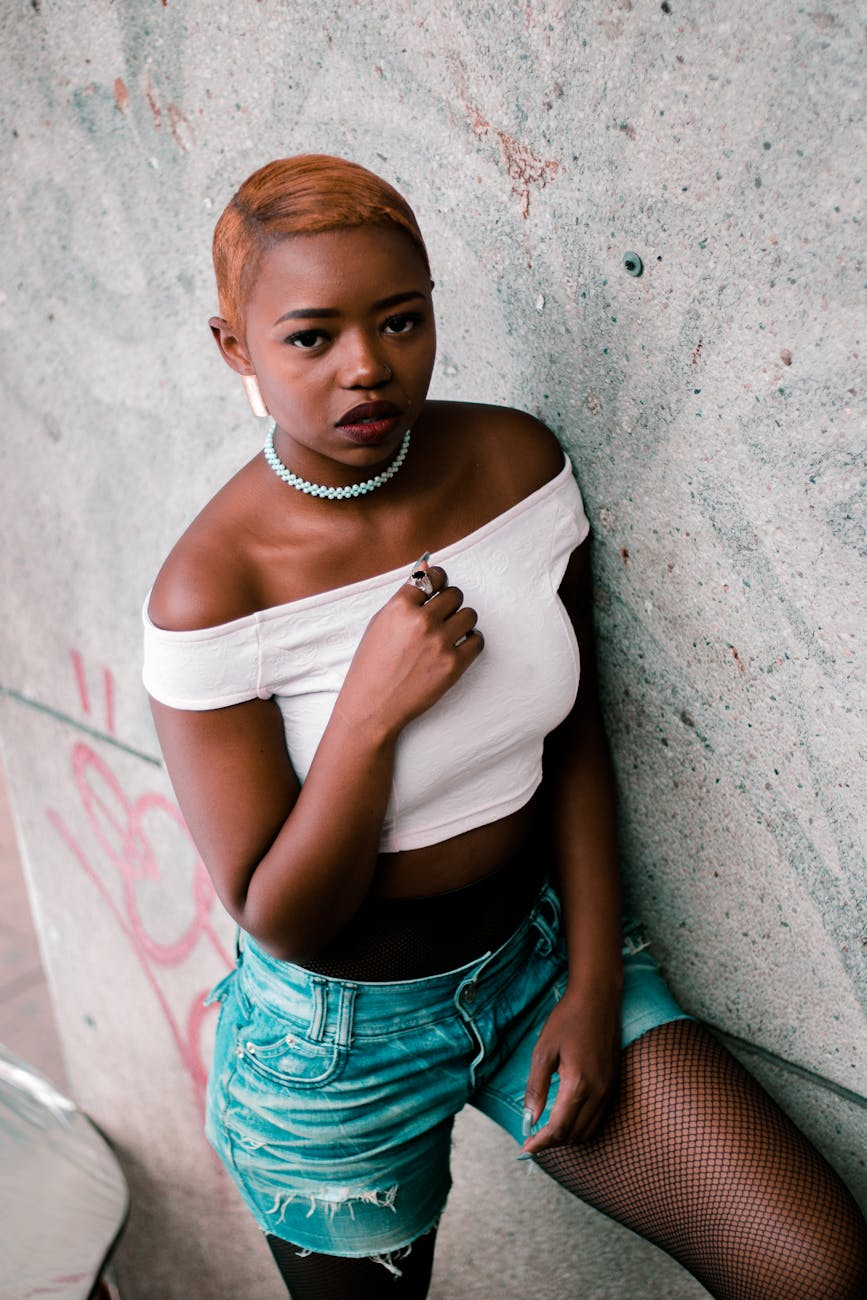crop_top: (129, 412, 594, 839)
shorts: (220, 893, 649, 1227)
